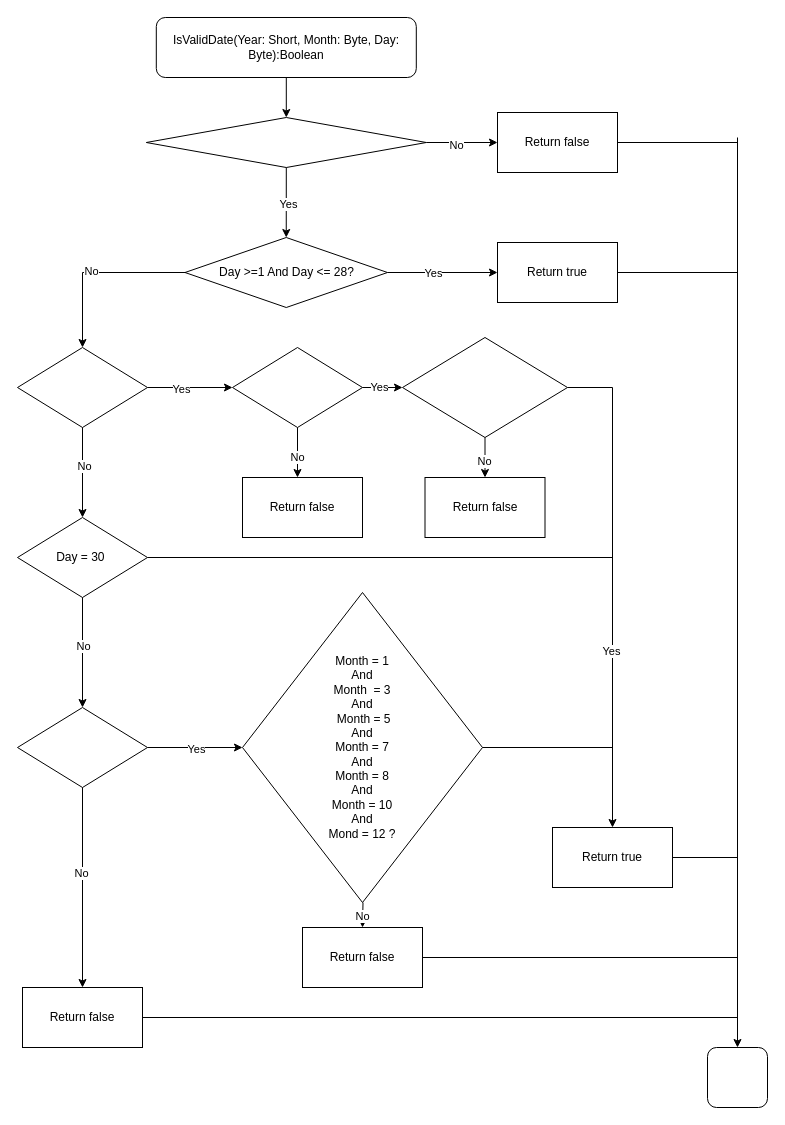
This 785x1125 diagram has some shape labels left out. The centre of each missing label's shape, as x and y in pixels:
"Day = 29" goes at point 82,387.
"Day = 31" goes at point 82,747.
"End" goes at point 737,1077.
"Month % 100 = 0 And Month % 400 = 0?" goes at point 485,387.
"Month = 2" goes at point 297,387.
"Month > = 1 And Month <= 12?" goes at point 285,142.
